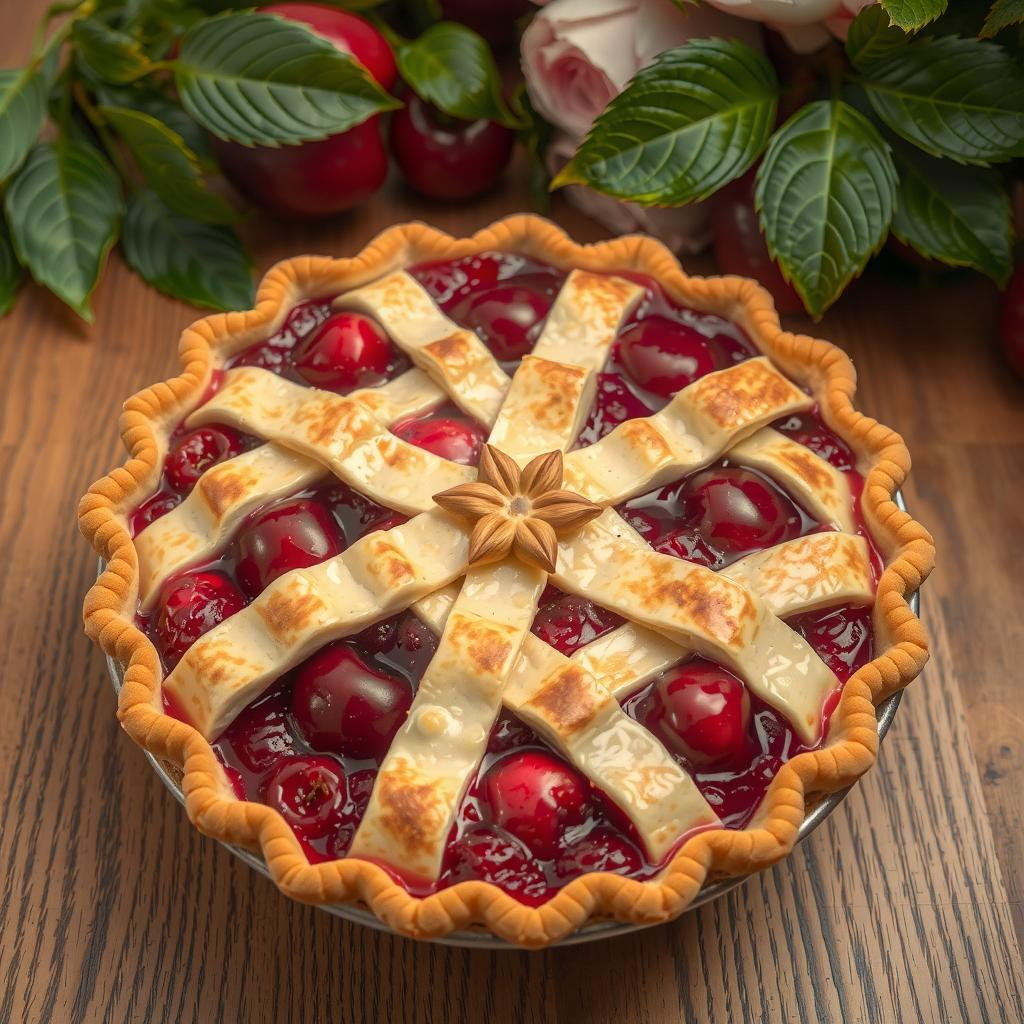pie: (73, 207, 944, 960)
